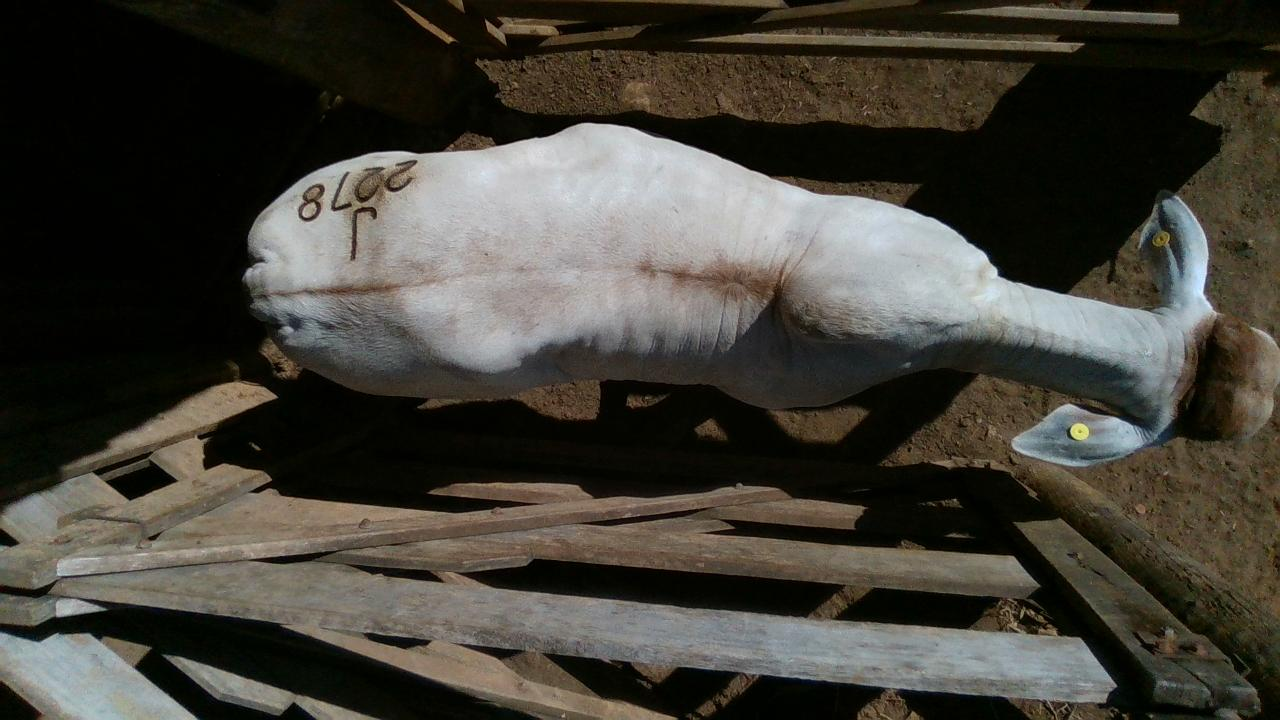cattle: (240, 120, 1280, 467)
